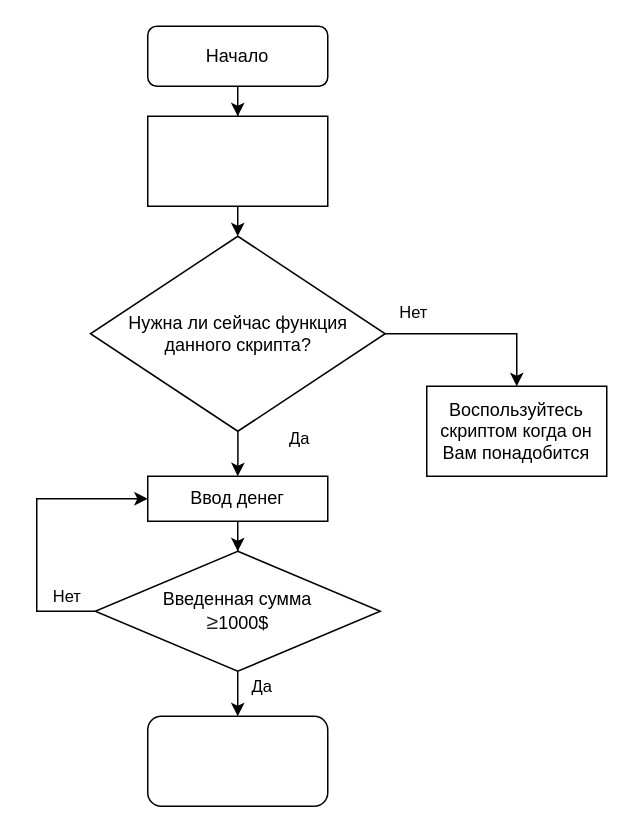
Image size: 633x833. Some labels were removed from this diagram. The shapes that lost their labels are listed below. From the top down, each one's centre as x and y in pixels, then its label:
At (237,160): "Вывод описания функции скрипта и приглашение в консоль".
At (237,760): "Результирующий вывод данных".
